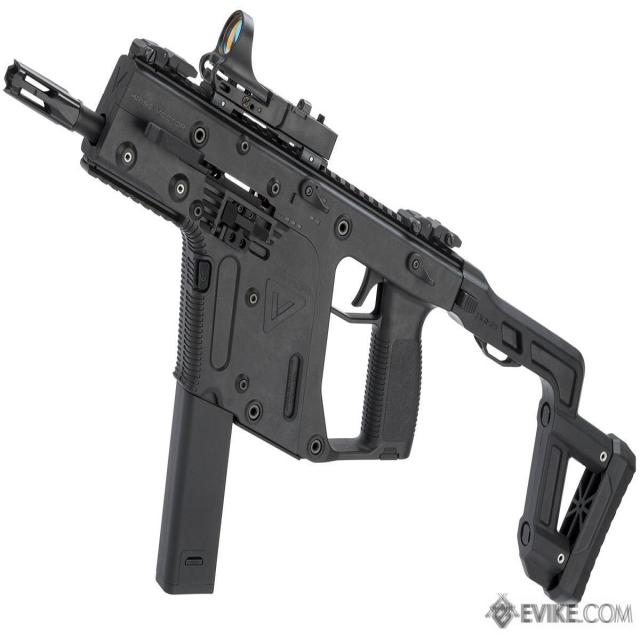SMG: (4, 14, 636, 612)
